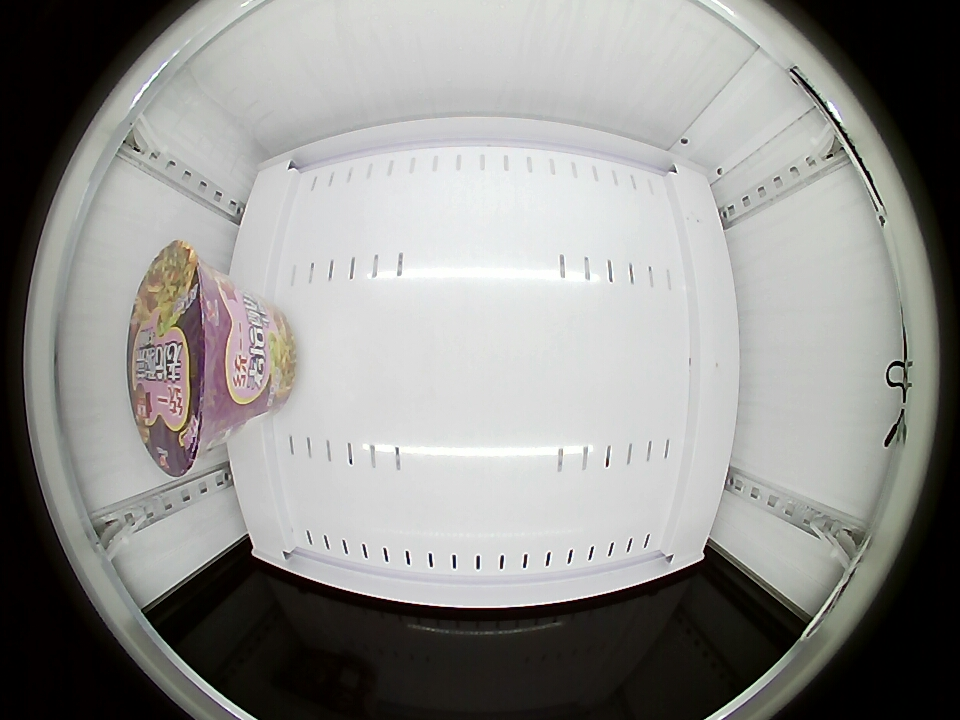laotansuancai: (128, 242, 242, 479)
